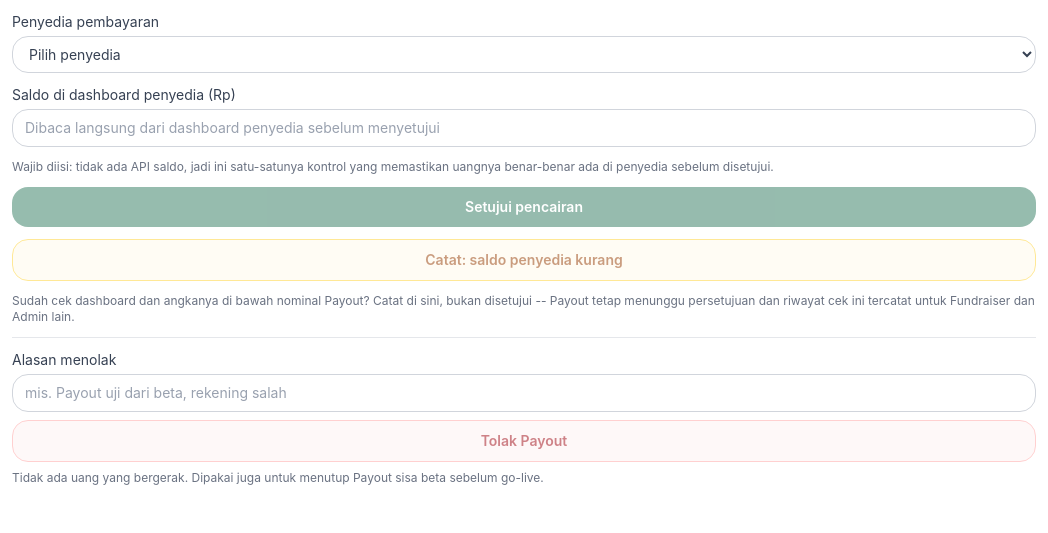
AdminPayoutActionForm -- recording "saldo penyedia kurang" (ticket 30) › shows the server refusal when the reading is not actually short
Select "sumopod" in the dropdown labelled "Penyedia pembayaran": (524, 54) 12,36 -> 1036,73
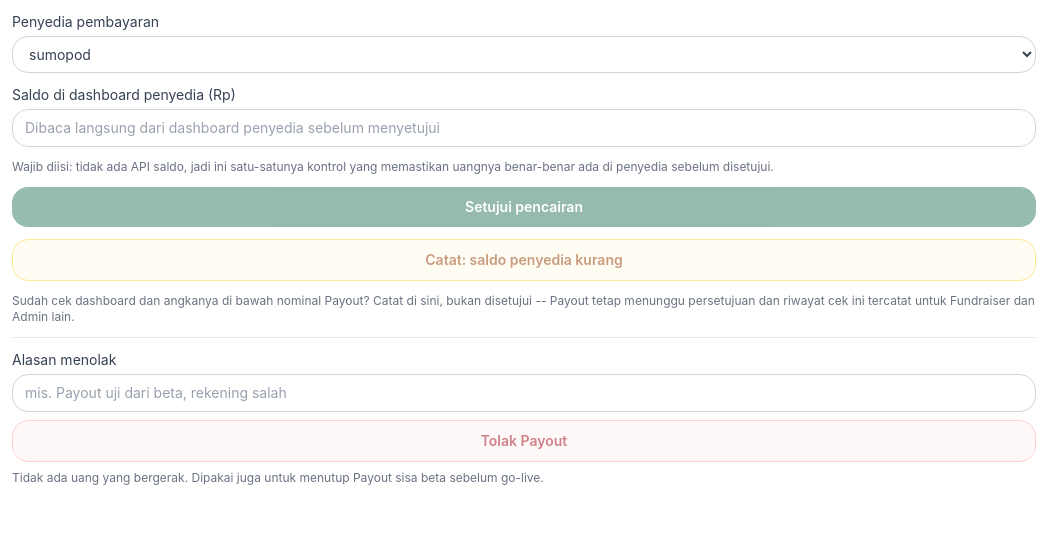
In the field labelled "Saldo di dashboard penyedia (Rp)": (524, 128) 12,109 -> 1036,147, type "5000000"
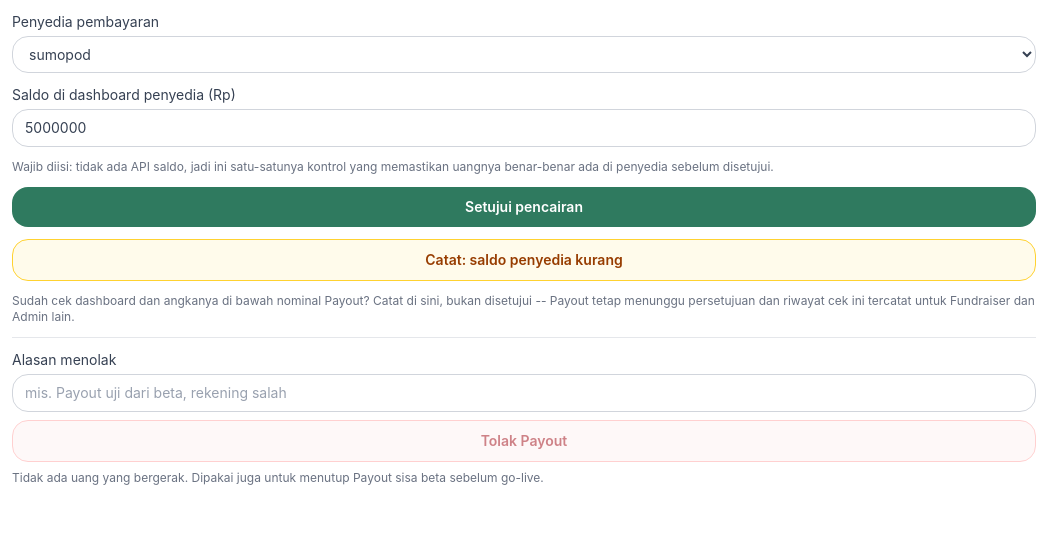
Click the button "Catat: saldo penyedia kurang": click(524, 260) 12,239 -> 1036,281
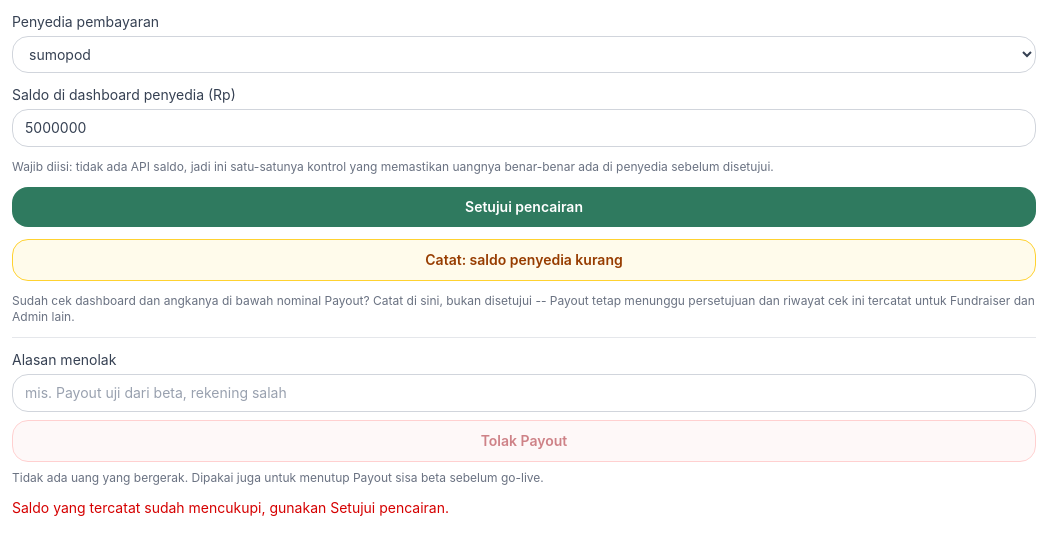
Check: the message shows "gunakan Setujui pencairan", box 12,499 -> 449,516
